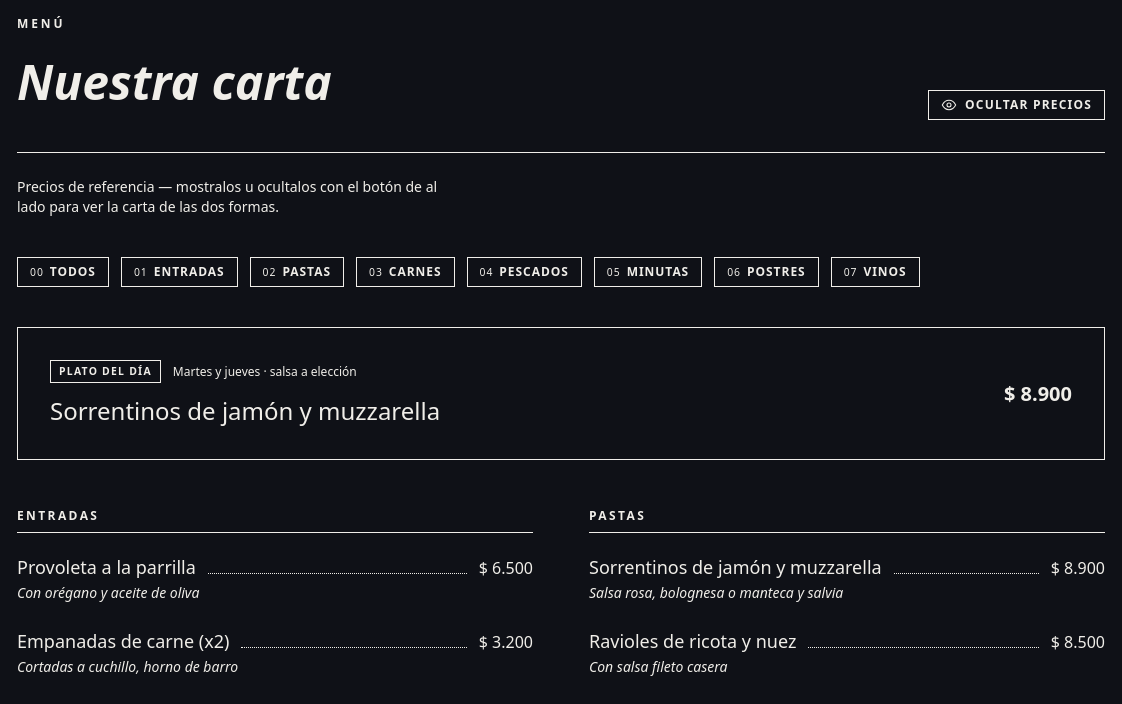
Menu (Gastronomía) › arranca con toda la carta y vuelve a ella con "Todos"
This screenshot has width=1122, height=704.
Expected: the text "Provoleta a la parrilla" is shown, top-left (17, 553), bottom-right (196, 581)
Click the button "06 Postres": point(766, 272) top-left (714, 257), bottom-right (819, 287)
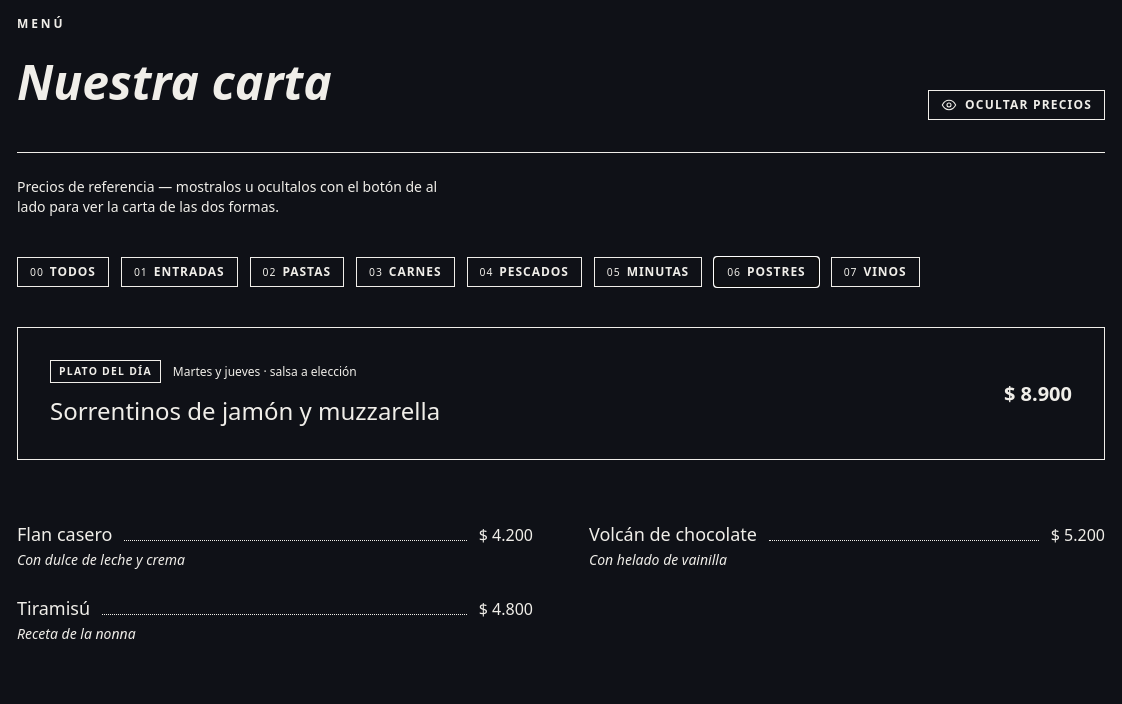
Expected: the text "Provoleta a la parrilla" is gone
Click the button "00 Todos": point(63, 272) top-left (17, 257), bottom-right (109, 287)
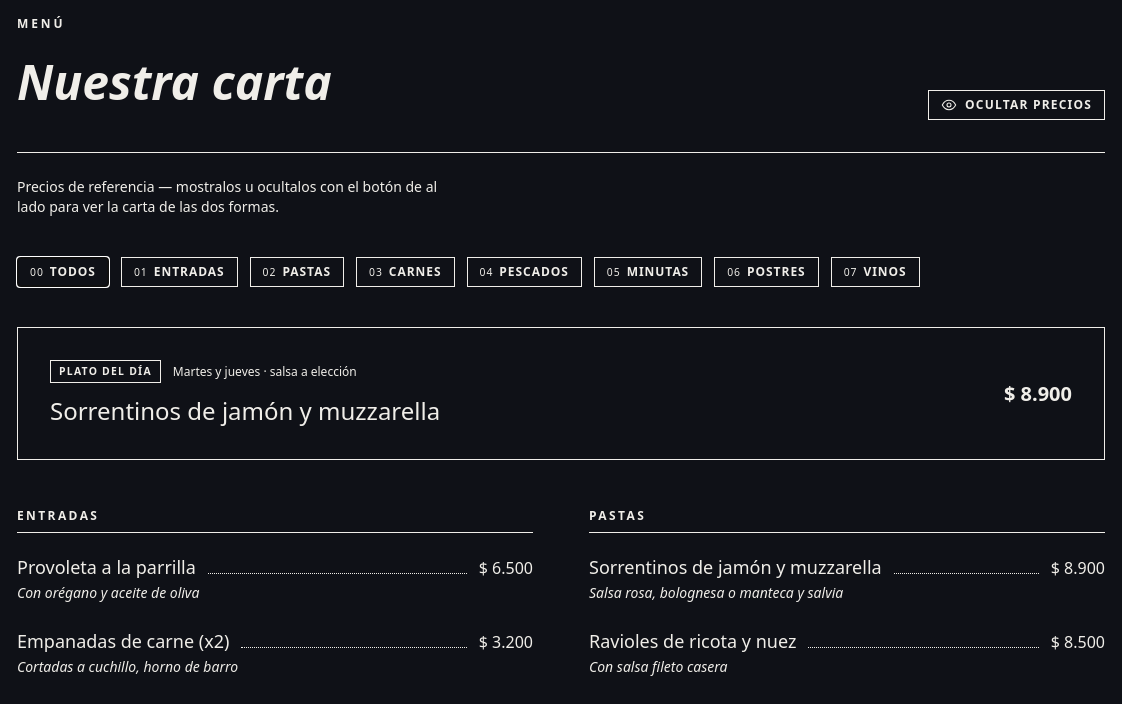
Expected: the text "Provoleta a la parrilla" is shown, top-left (17, 553), bottom-right (196, 581)
